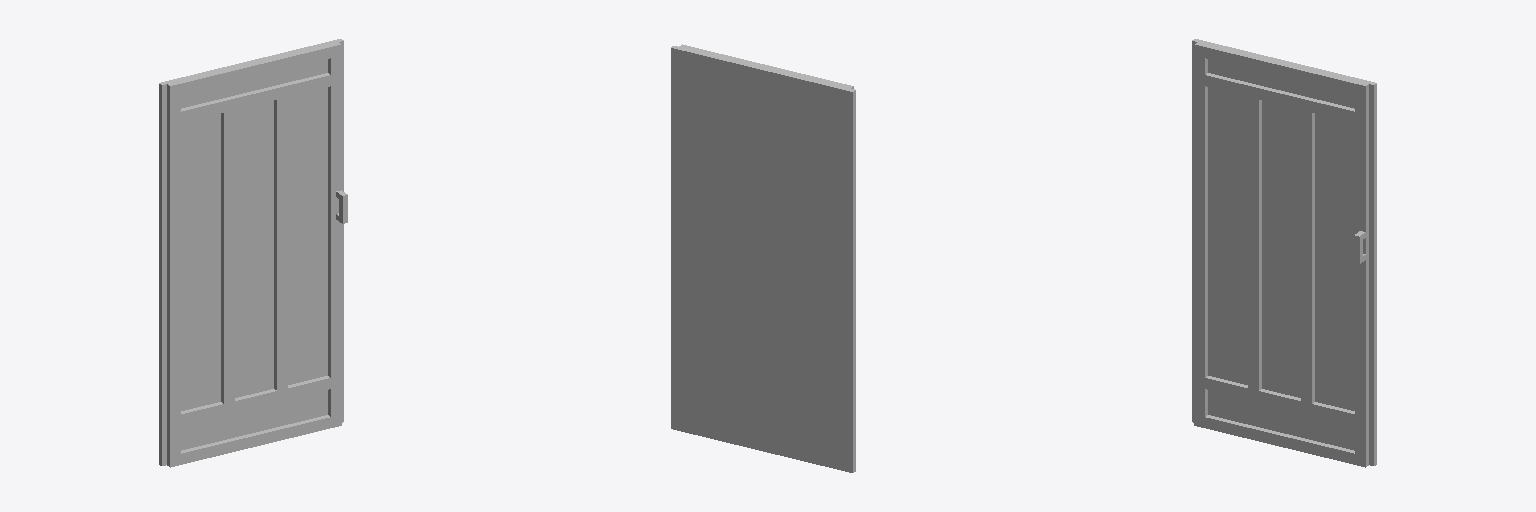
File: others2 - Kopya-1.obj
3 views of the same model, side by side, from view 1: azimuth 30°, elevation 25°; view 2: azimuth 150°, elevation 25°; view 3: azimuth 330°, elevation 25° (orthographic).
Parts seen in each view (by area): view 1: object 1; view 2: object 1; view 3: object 1.
Boxes of the visible parts, x1,y1,x2,y2 form: object 1: [159, 39, 347, 467]; object 1: [671, 44, 855, 472]; object 1: [1192, 39, 1376, 467].
Bounding box in the file's own units: 3.4 × 6.8 × 0.4.